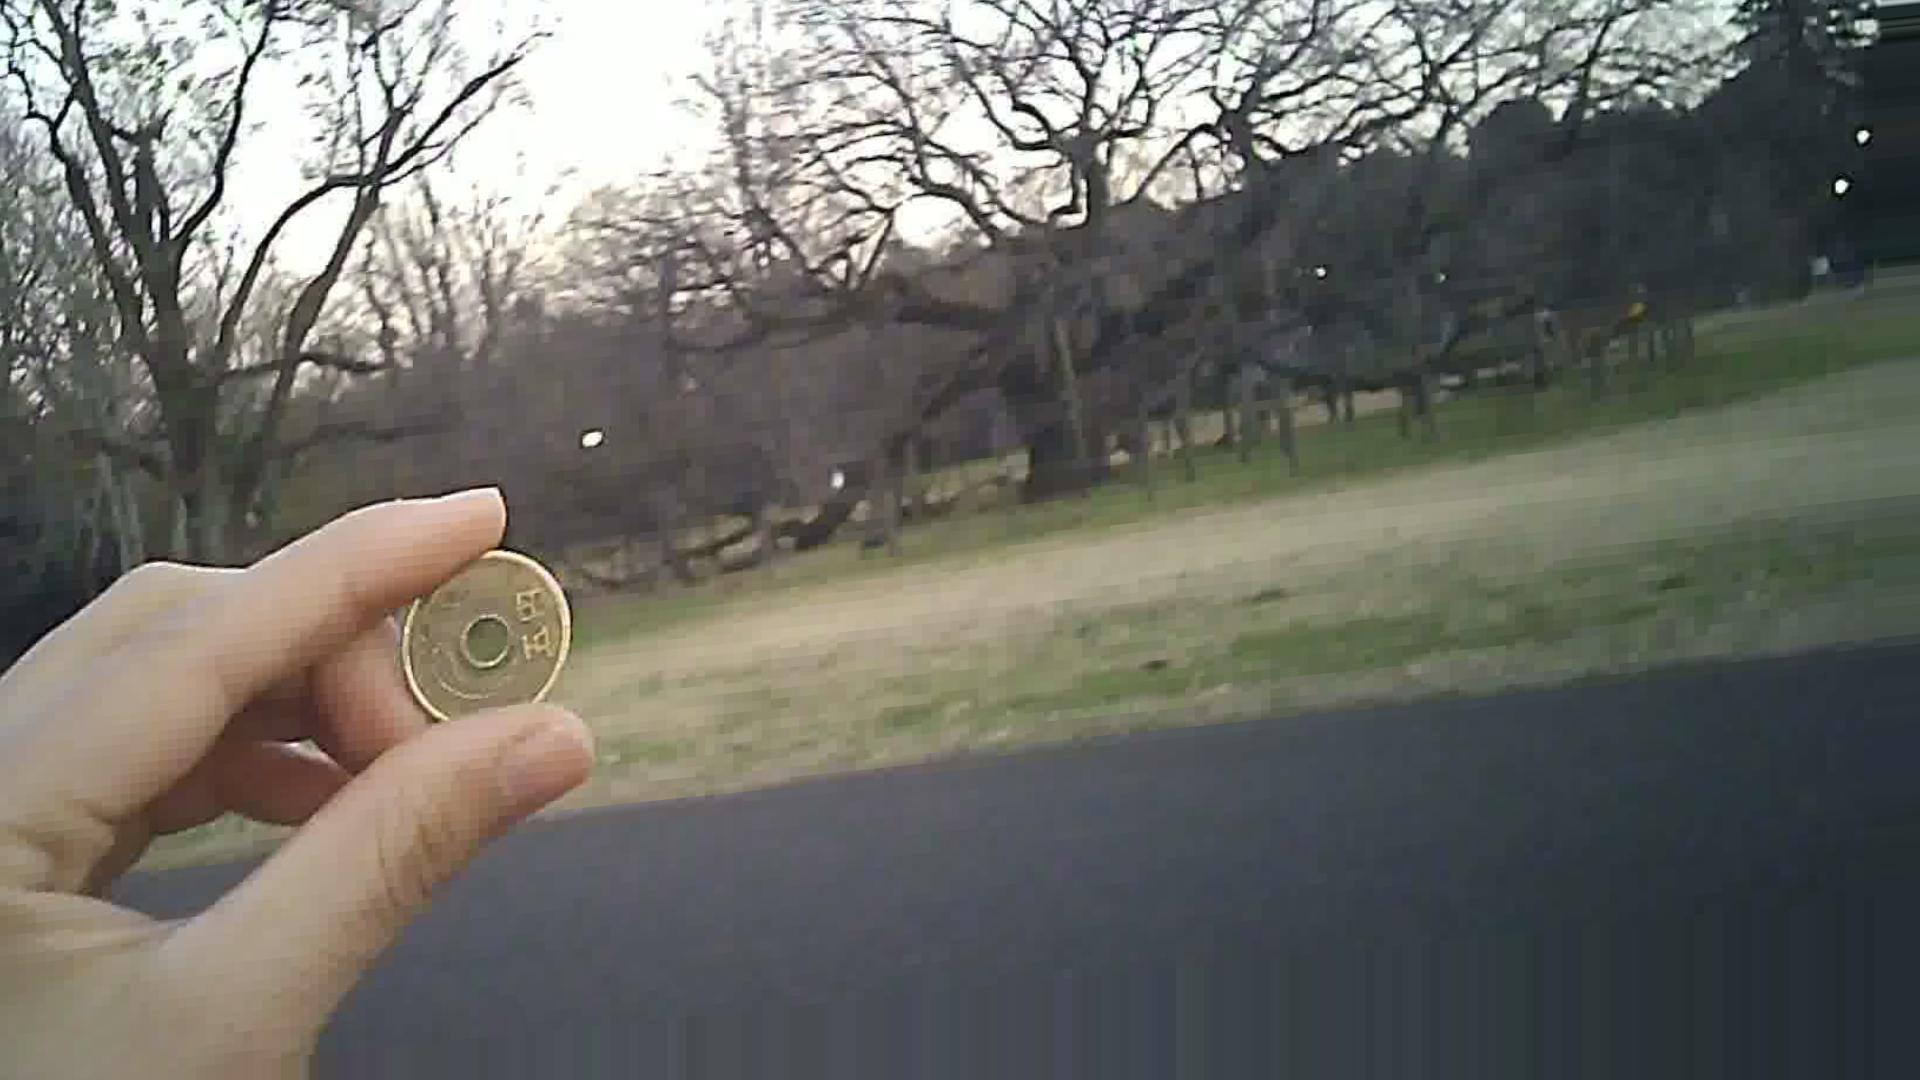5 Yen: (385, 545, 571, 721)
